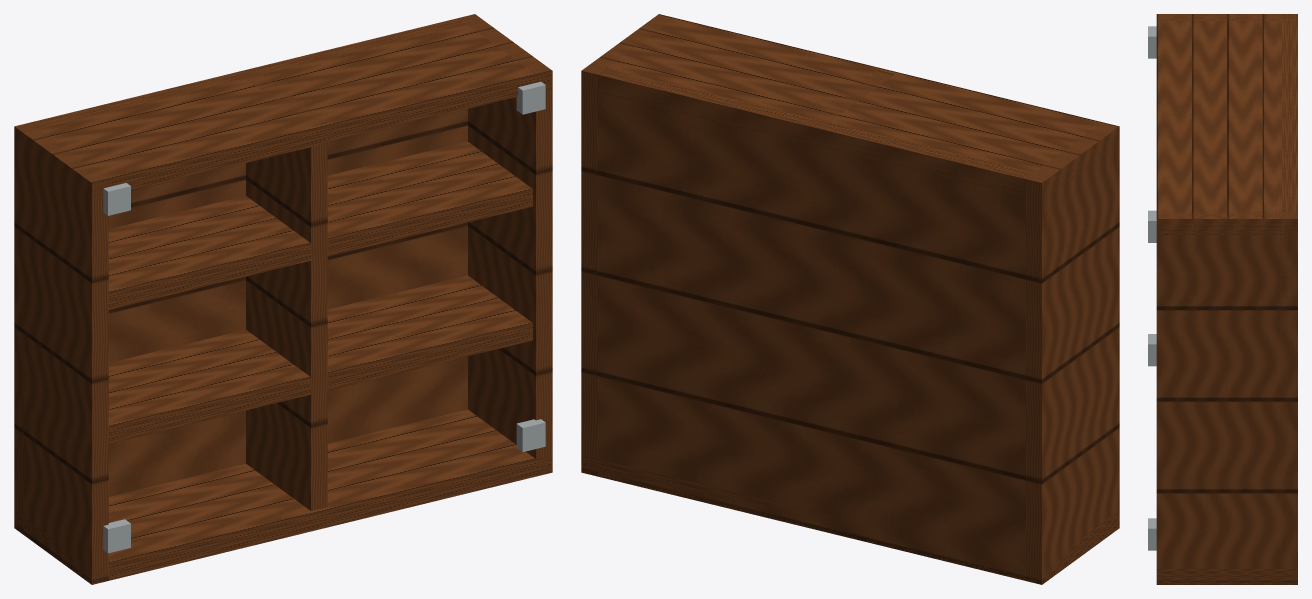
Rendered from roadside-survival-stops-garage-wall-cubby-8c9109cf__23570.glb.
3 views of the same model, side by side, from view 1: azimuth 30°, elevation 25°; view 2: azimuth 150°, elevation 25°; view 3: azimuth 270°, elevation 25° (orthographic). The views are drawn at different scales.
Parts seen in each view (by area): view 1: garage-wall-cubby; view 2: garage-wall-cubby; view 3: garage-wall-cubby.
Part boxes in pixels (x1,y1,x2,y2): garage-wall-cubby: [14, 14, 552, 584]; garage-wall-cubby: [581, 14, 1119, 584]; garage-wall-cubby: [1148, 14, 1297, 584].
Bounding box in the file's own units: 1.2 × 1 × 0.371.
2 materials, 1 textured.
